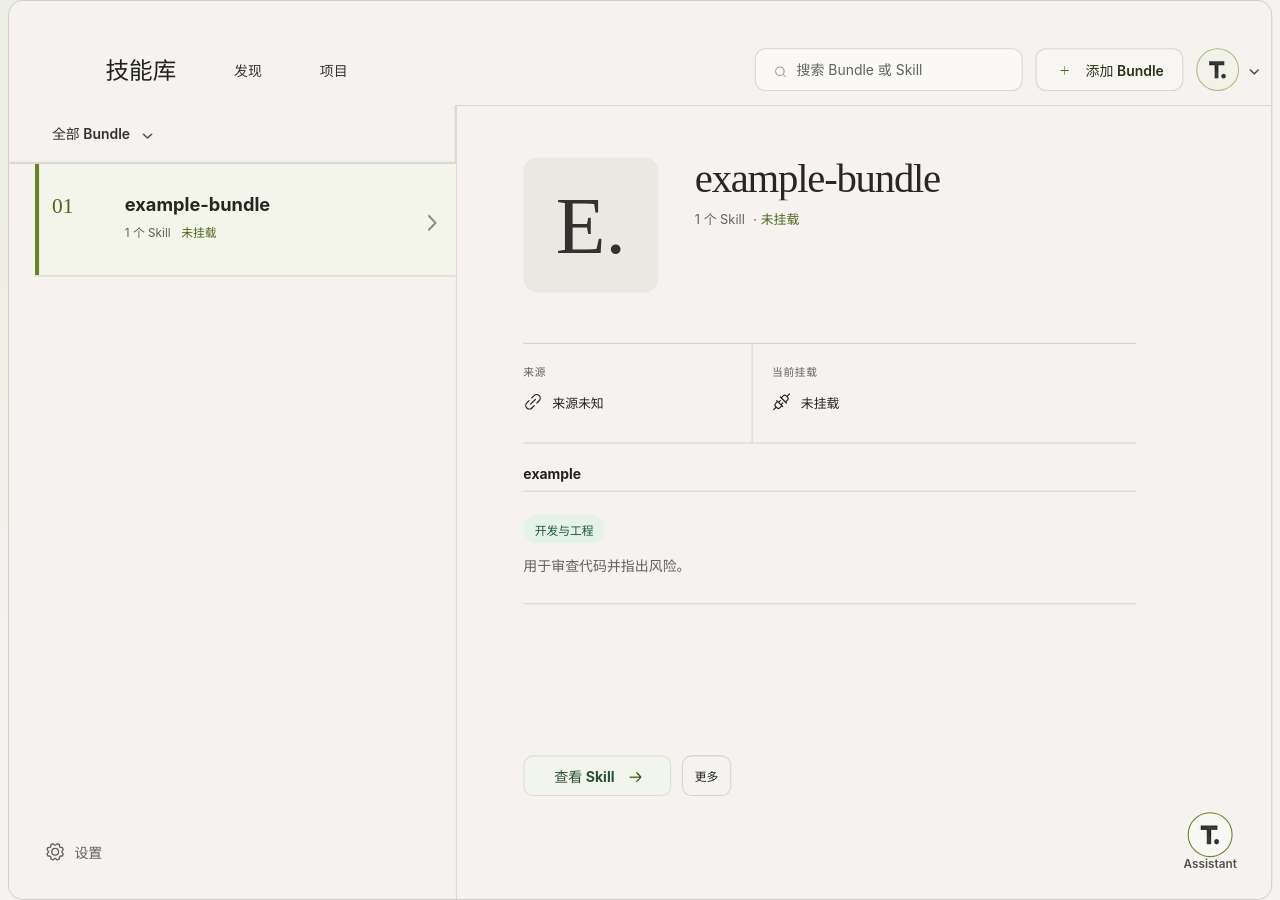
Test: 本机清单 › 单成员 Bundle 在主清单直接显示分类概要并进入 Skill 详情
The image size is (1280, 900).
Expected: the text "开发与工程" is shown, [523,515,605,543]
Expected: the text "用于审查代码并指出风险。" is shown, [523,557,690,574]
Click the button with aria-label "查看 Skill example".
click(597, 776)  # box [523,755,671,796]
(page scrolled)
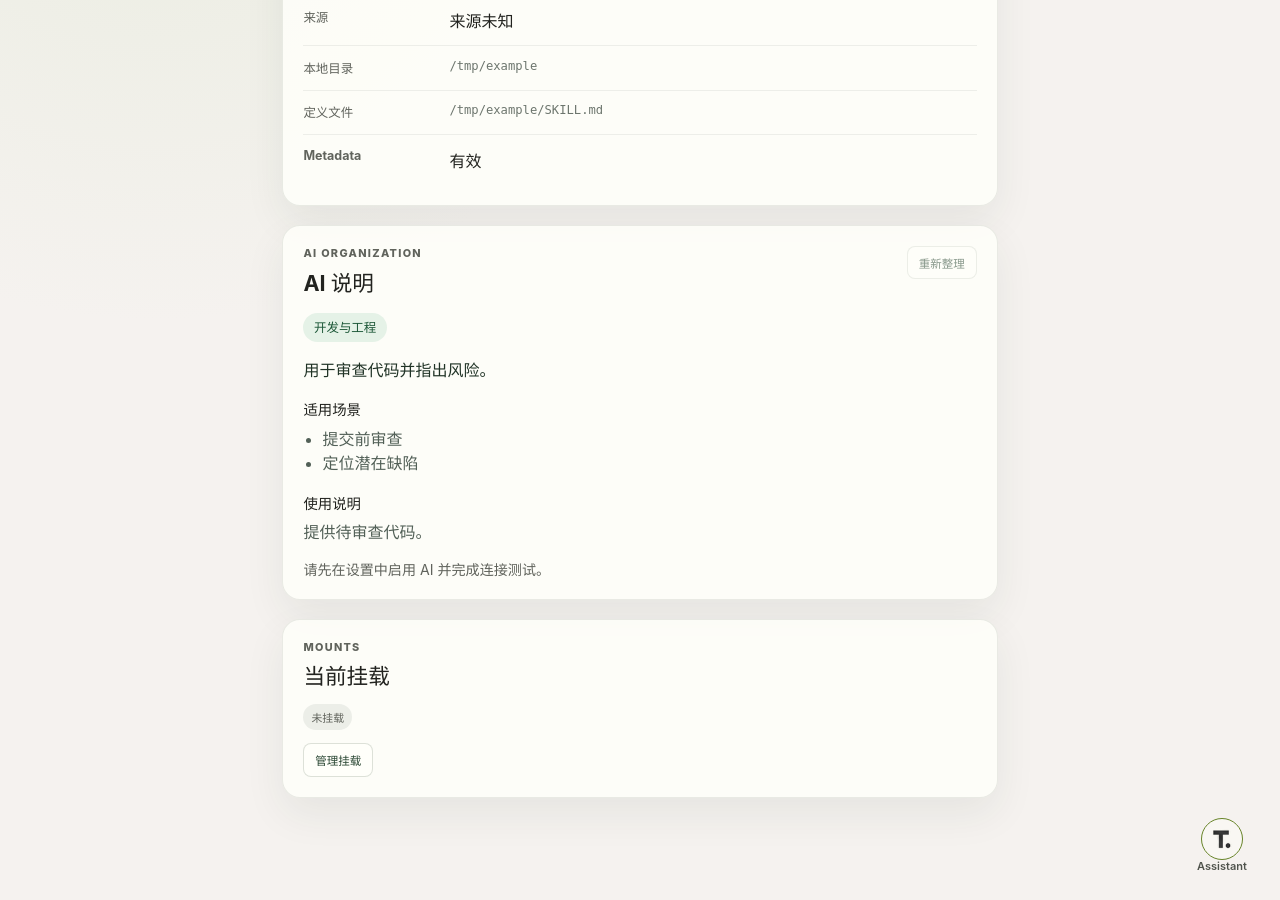
Expected: the list item "提交前审查" is shown, [323,428,403,448]
Expected: the text "提供待审查代码。" is shown, [303,522,431,542]
